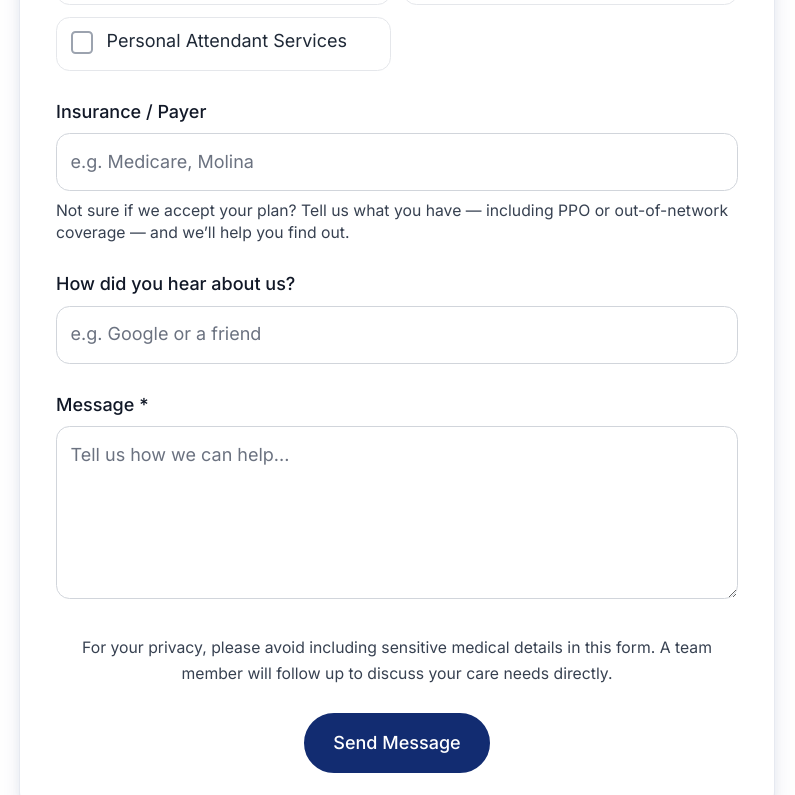
submitting an empty form explains every problem and sends nothing
(page scrolled)
Click the button "Send Message" at (397,743), box 304,713 -> 490,773
(page scrolled)
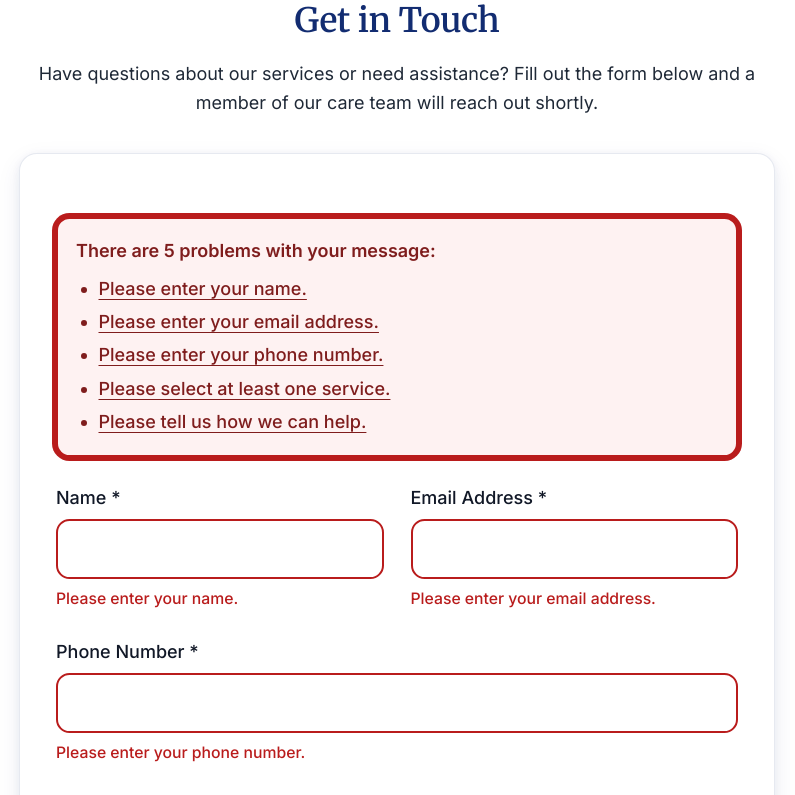
Check: the message shows "5 problems", box 76,240 -> 436,261
Check: the link "Please enter your name." is shown, box 98,278 -> 307,299
Check: the link "Please select at least one service." is shown, box 98,378 -> 390,399
